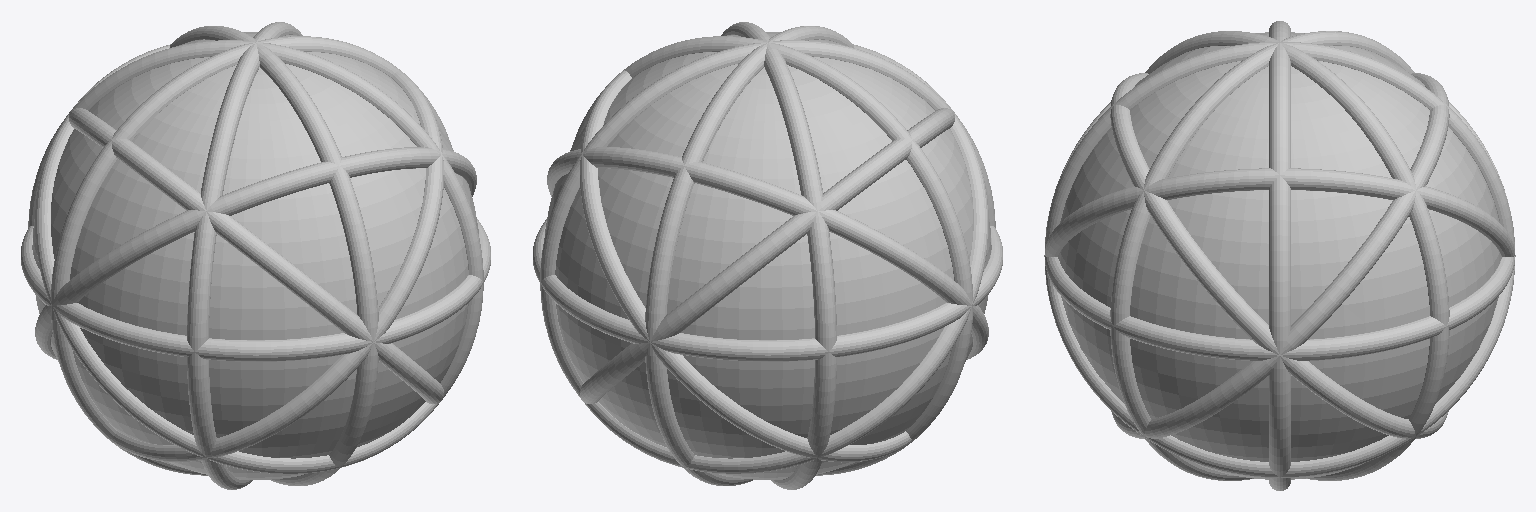
The picture shows the model from 3 angles: view 1: azimuth 30°, elevation 25°; view 2: azimuth 150°, elevation 25°; view 3: azimuth 270°, elevation 25°; orthographic projection.
Parts seen in each view (by area): view 1: 球体, 环体.009, 环体.002; view 2: 球体, 环体.009, 环体.002; view 3: 球体, 环体.009, 环体.002.
Part boxes in pixels (x1,y1,x2,y2): 球体: (32, 32, 478, 479); 环体.009: (28, 22, 483, 489); 环体.002: (21, 26, 490, 485); 球体: (545, 32, 991, 479); 环体.009: (540, 22, 995, 489); 环体.002: (533, 26, 1002, 485); 球体: (1058, 32, 1501, 479); 环体.009: (1044, 31, 1515, 480); 环体.002: (1044, 21, 1515, 490).
Size of the model in its own units: 8.4 by 8.4 by 8.4.